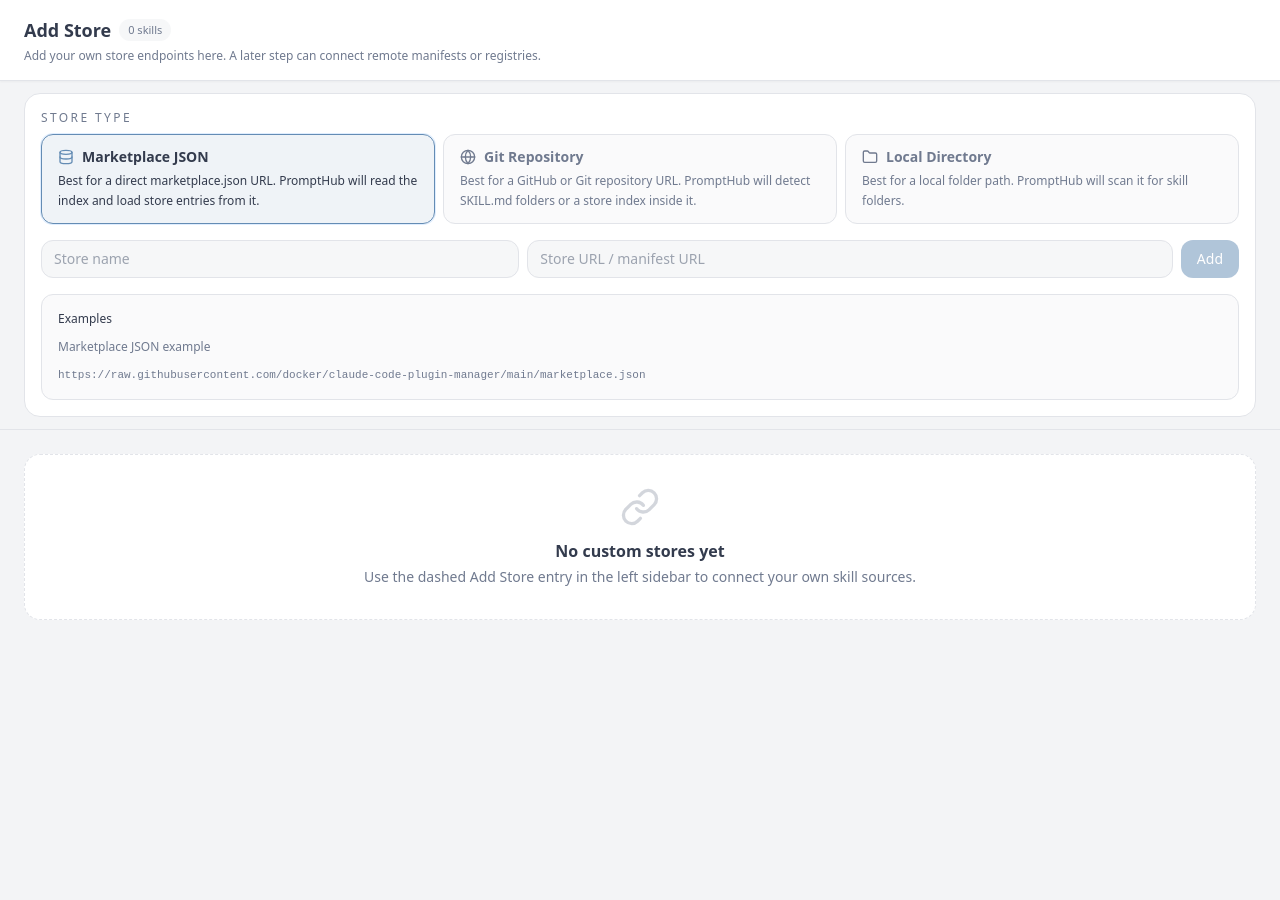
Test: SkillStore custom sources › hides the selected branch from the suggestion list
The image size is (1280, 900).
Click the button "Git Repository": (640, 179) [443, 134, 837, 224]
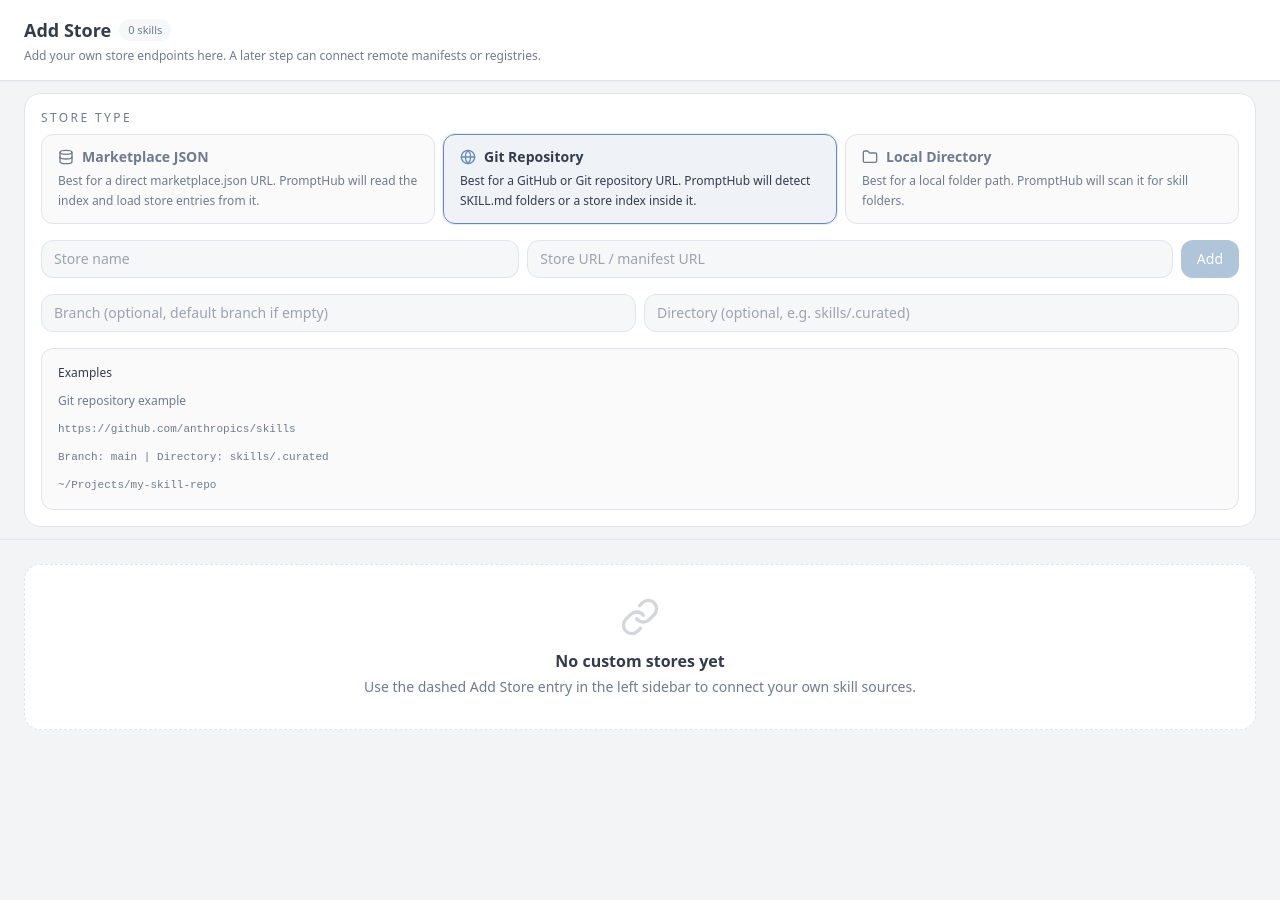
In the field with placeholder "Store URL / manifest URL": (850, 259) [527, 240, 1173, 278], type "https://github.com/anthropics/skills"
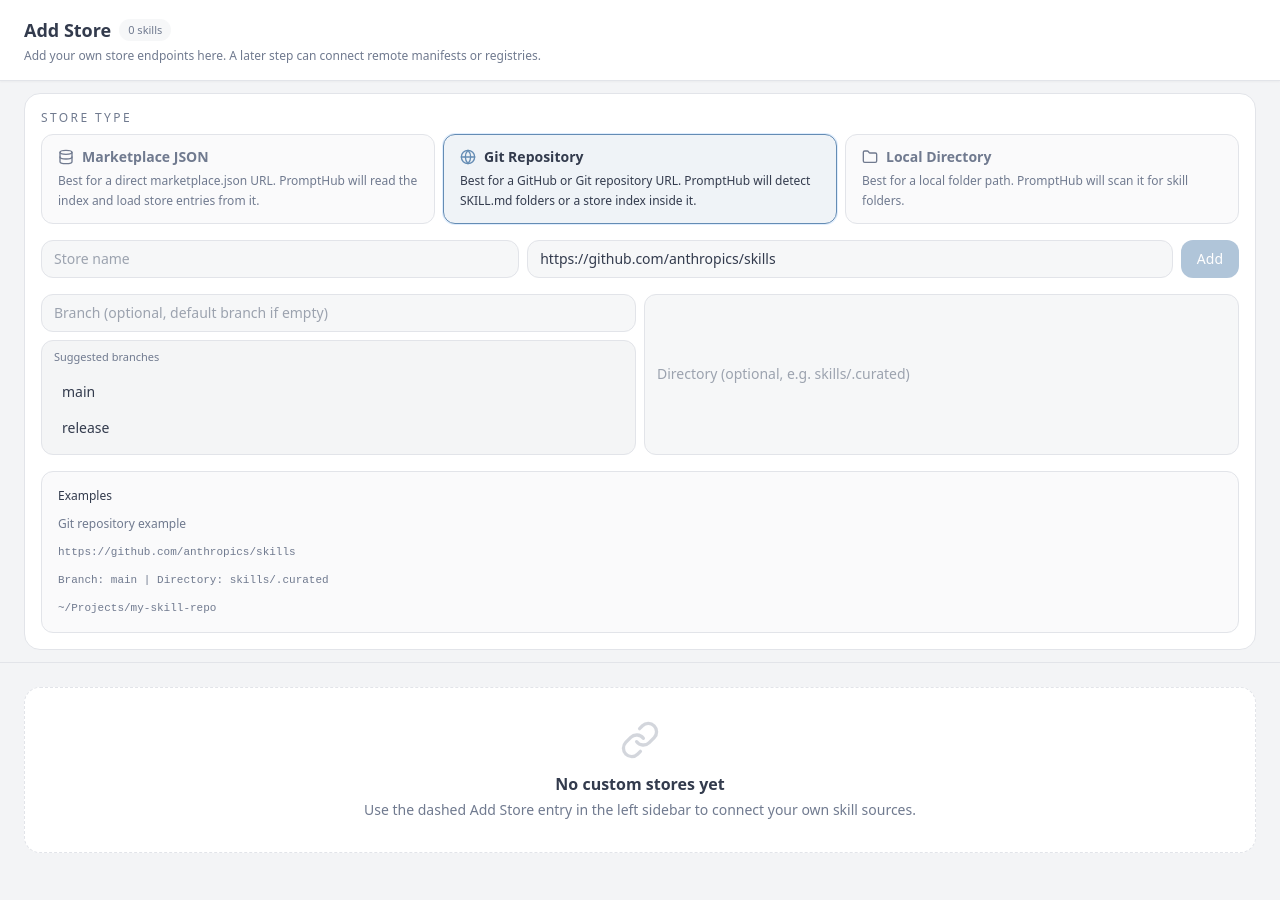
Expected: the text "Suggested branches" is shown, [54, 349, 159, 364]
Click the button "main": (79, 391) [50, 374, 627, 410]
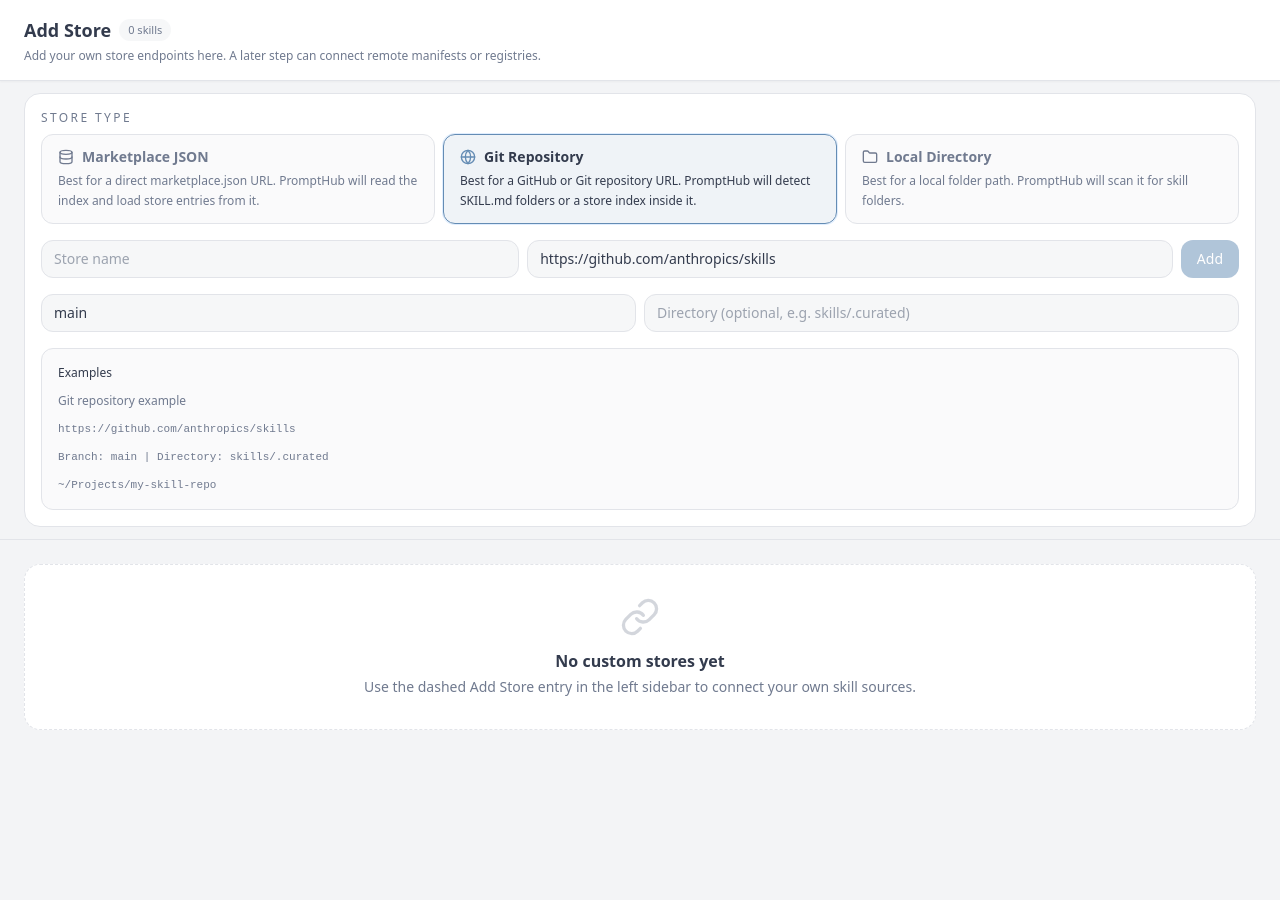
Expected: the field showing "main" is shown, [41, 294, 636, 332]
